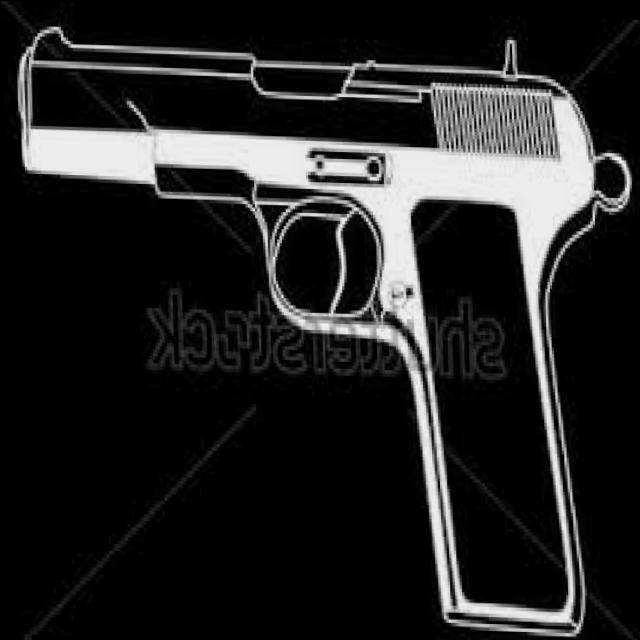handgun: (17, 4, 638, 634)
